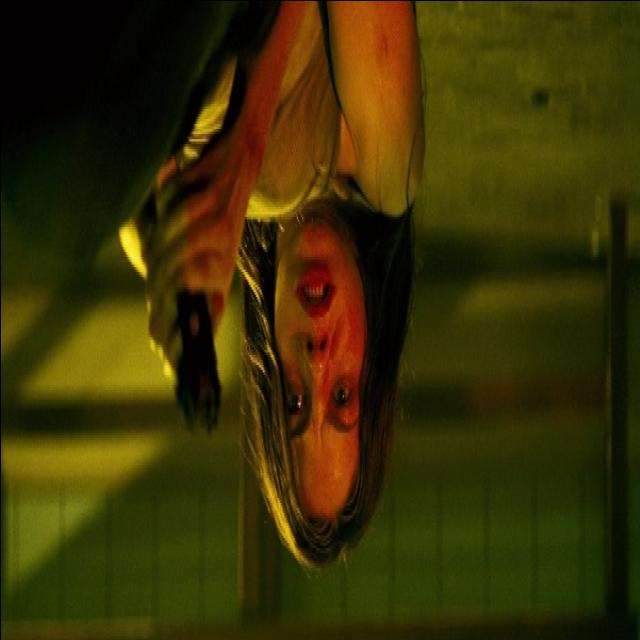weapons: (144, 174, 233, 460)
